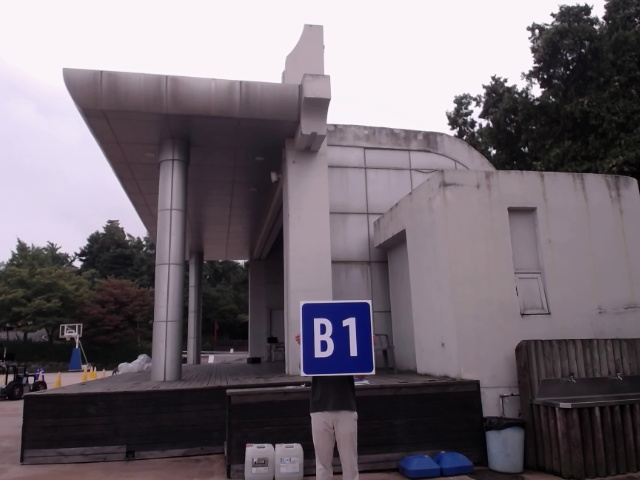delivery_b1: (300, 301, 375, 376)
